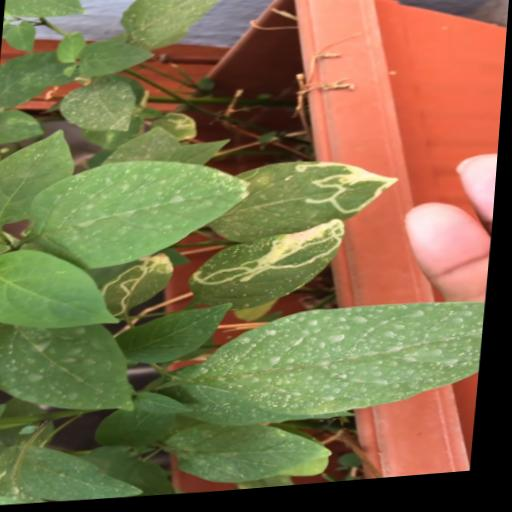Healthy: (0, 244, 127, 337), (118, 305, 238, 371)
Leaf_Miner: (210, 158, 402, 253), (186, 221, 352, 322), (82, 253, 181, 324), (0, 444, 31, 507), (151, 113, 204, 147)
